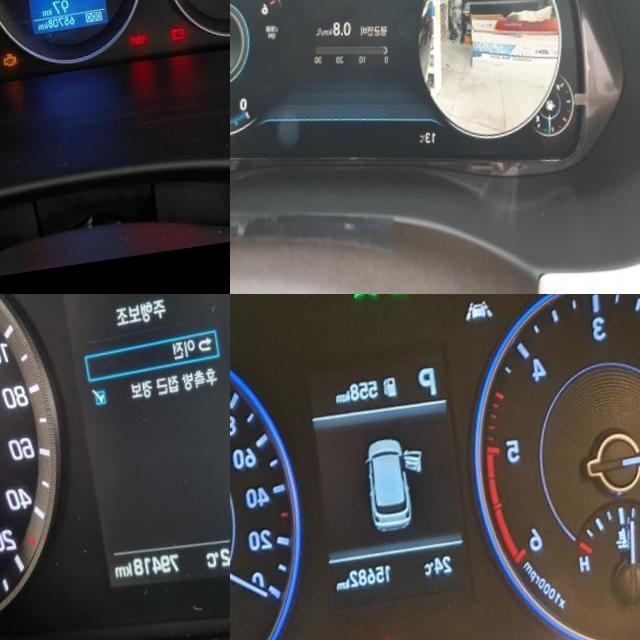LaneCenteringOff: (459, 309, 489, 331)
Low beam: (378, 294, 404, 304)
SideLamp: (345, 294, 374, 306)
